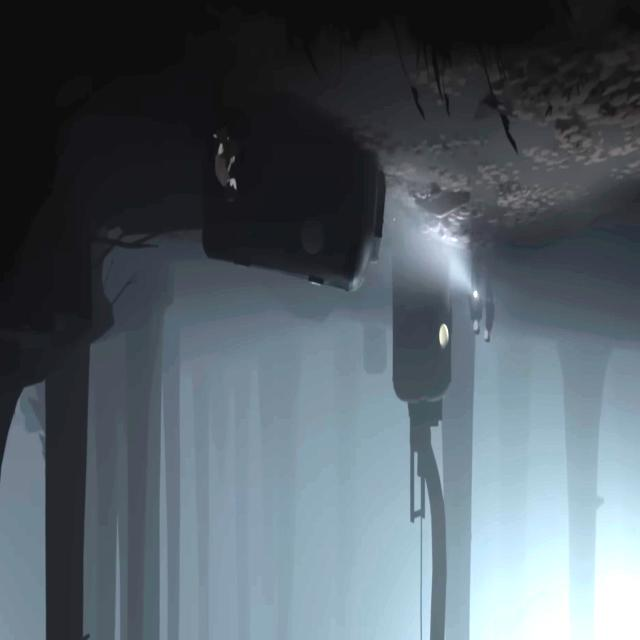boy: (212, 130, 238, 201)
